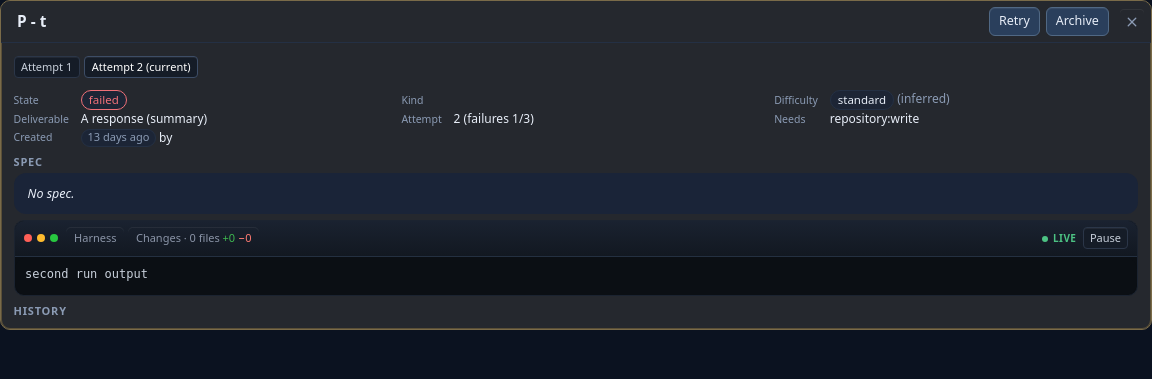
it: attempt strip › shows an empty log and omits Changes when the attempt has no snapshot
Expected: the text "second run output" is shown, x1=25 y1=267 x2=148 y2=281
Click the button "Attempt 1".
click(47, 67)  # box x1=14 y1=56 x2=80 y2=78
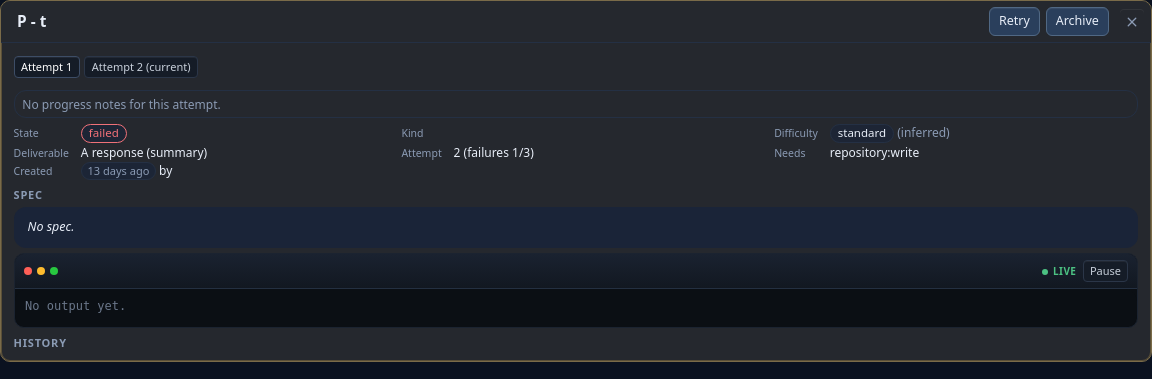
Now the text "No output yet." is shown, box x1=25 y1=299 x2=126 y2=313
Now the tab "Changes" is gone
Now the text "second run output" is gone
